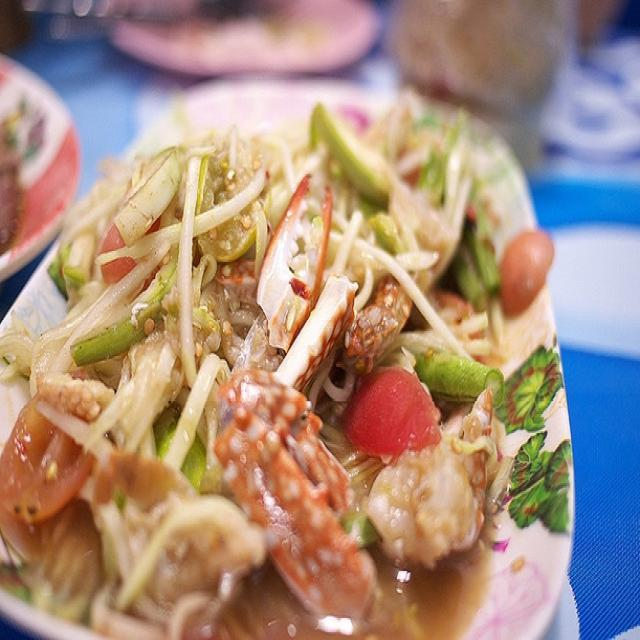蔬菜料理: (25, 54, 575, 622)
